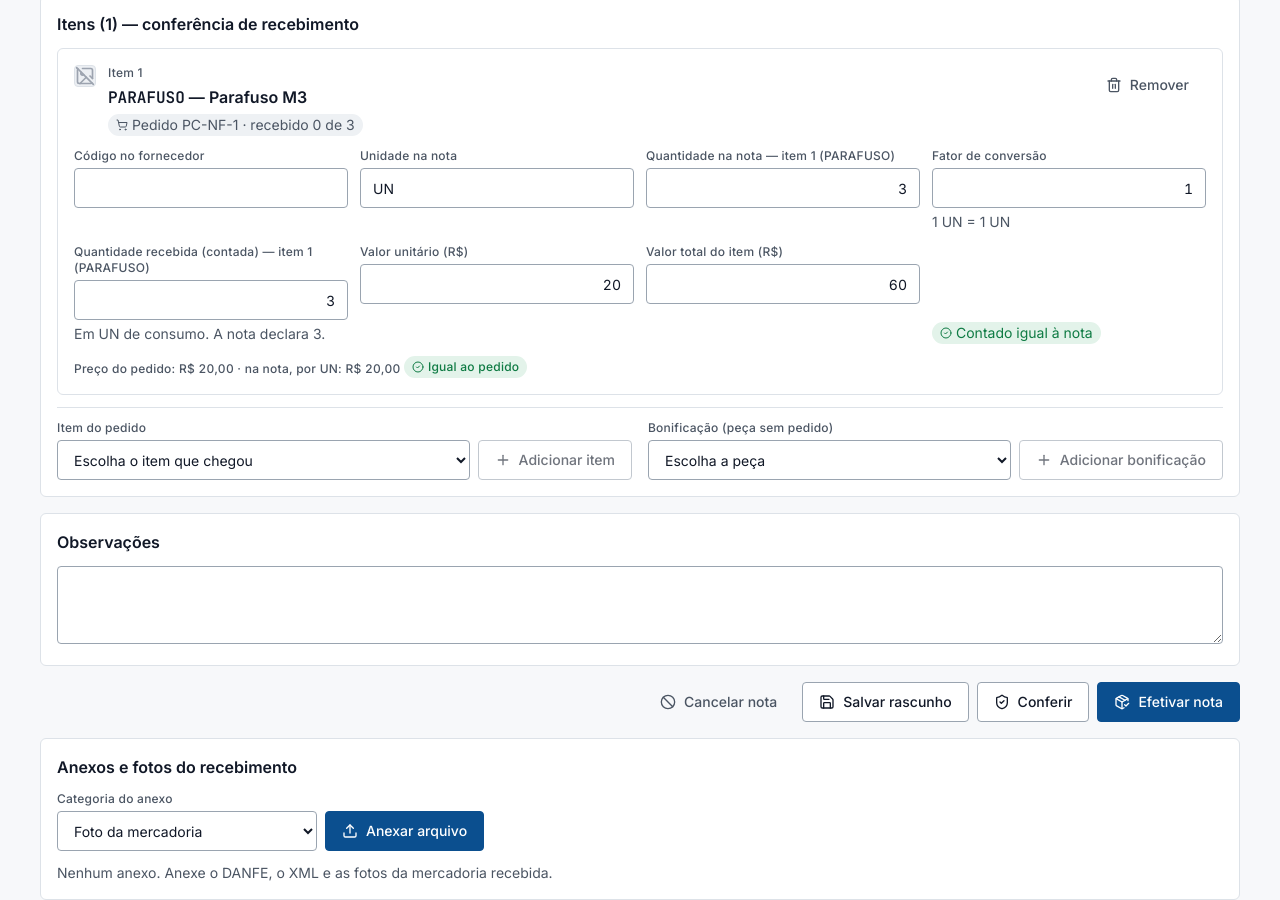
Test case: NotaEntrada › nota alterada por outra pessoa (409 CONFLITO ao efetivar): mostra o motivo e recarrega a nota
(page scrolled)
Step 1. Click the button "Efetivar nota" → (1169, 702), box [1097, 682, 1240, 722]
(page scrolled)
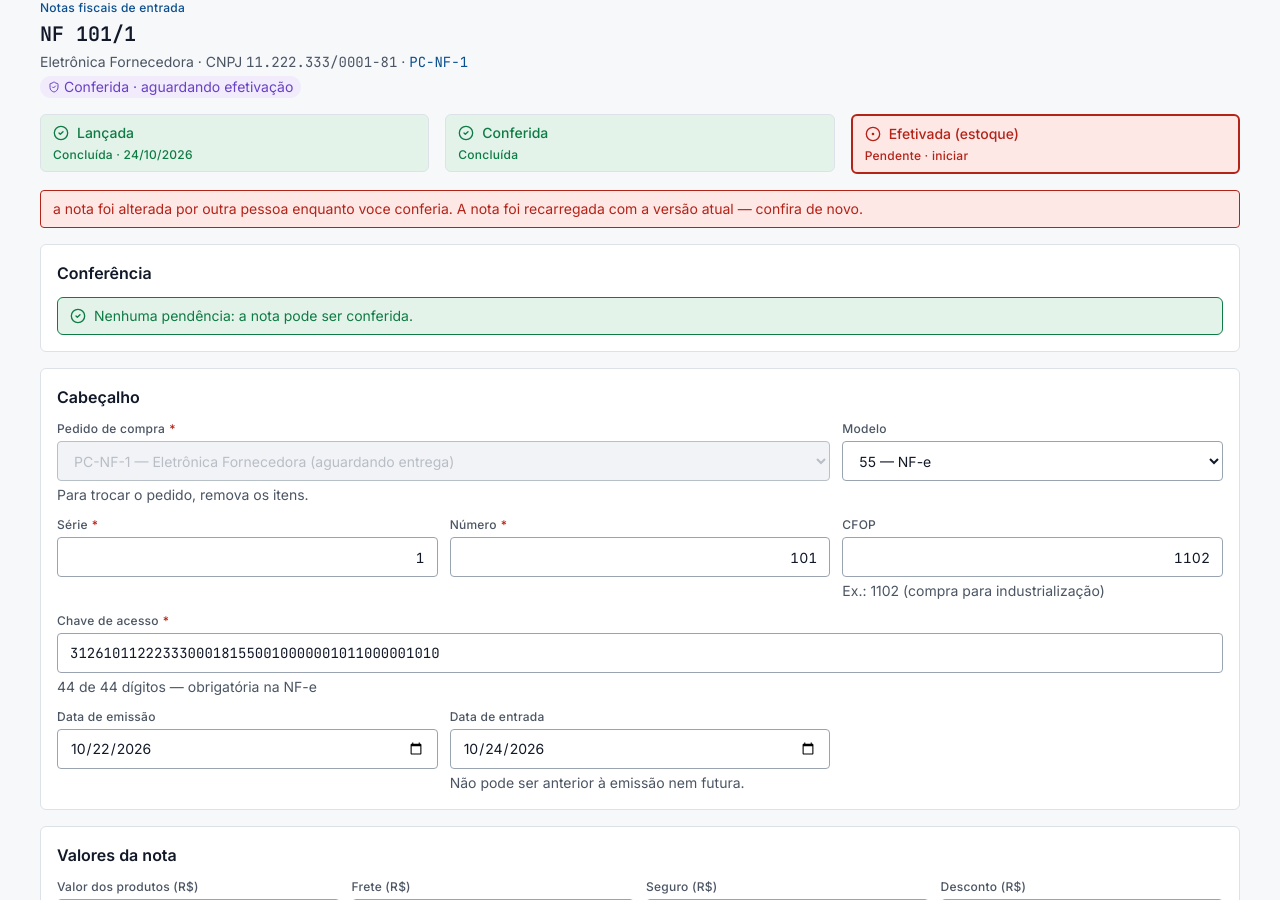
Result: the text "alterada por outra pessoa enquanto voce conferia. A nota foi recarregada" is shown at [53, 200, 863, 217]
